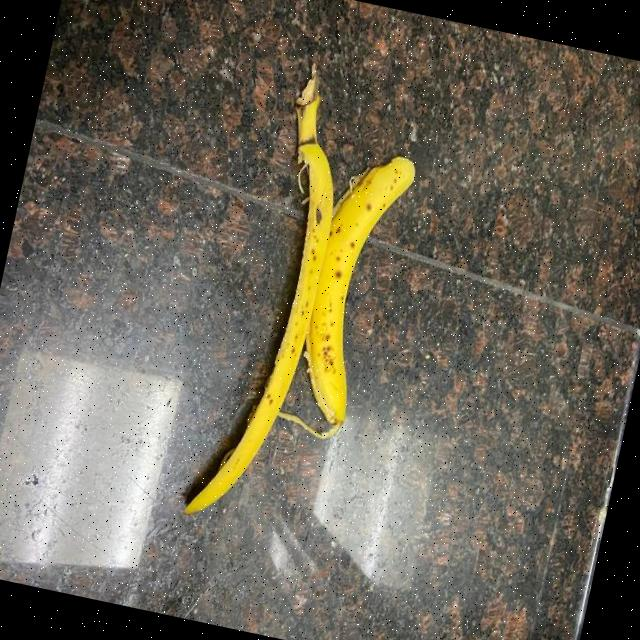banana-peel: (181, 56, 364, 532), (279, 142, 419, 446)
